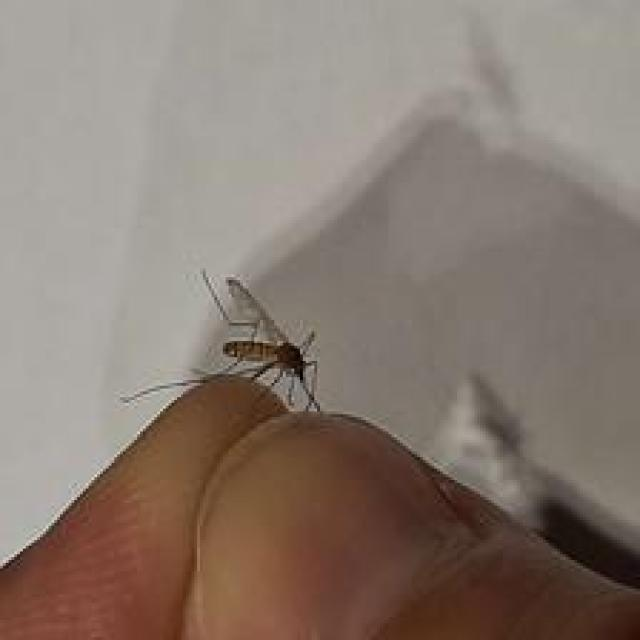Culex: (119, 267, 324, 416)
